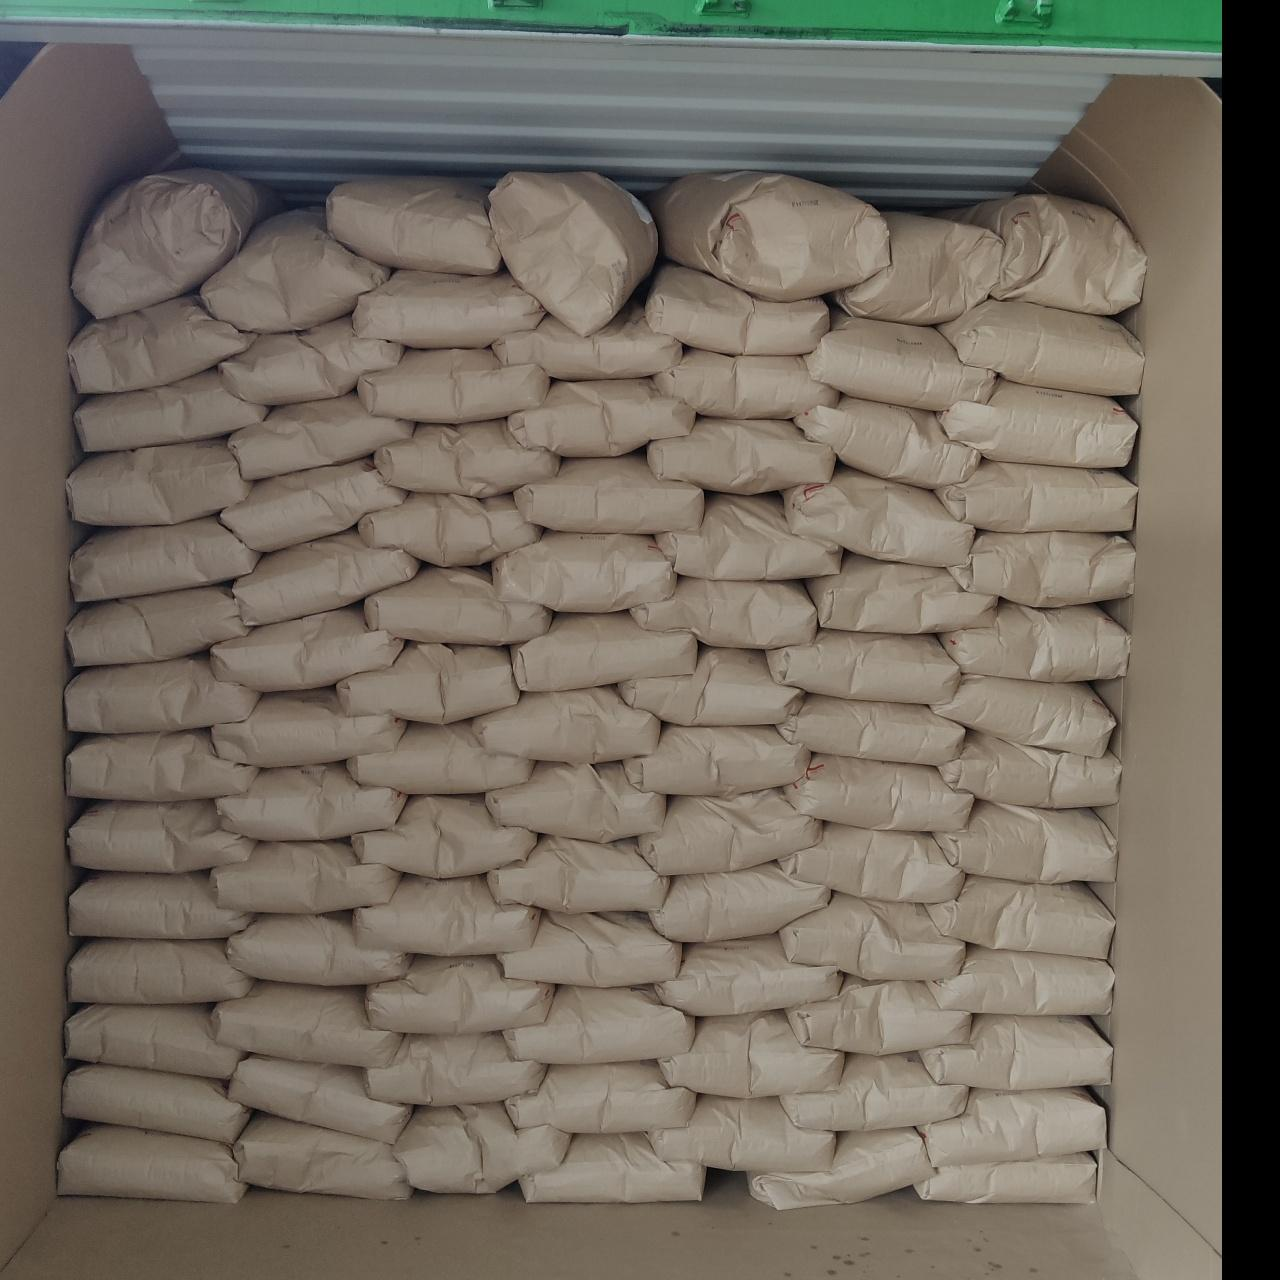sack: (652, 171, 888, 301), (72, 169, 271, 317), (489, 173, 657, 336), (201, 209, 390, 332), (963, 194, 1146, 315), (782, 465, 973, 567), (939, 300, 1142, 395), (838, 212, 1002, 325), (804, 314, 992, 411), (70, 295, 255, 393), (232, 531, 419, 625), (222, 458, 408, 551), (939, 380, 1137, 467), (796, 396, 979, 488), (327, 177, 500, 274), (645, 264, 828, 355), (209, 981, 401, 1067), (66, 437, 251, 526), (779, 891, 963, 980), (211, 607, 403, 692), (219, 316, 403, 404), (71, 516, 259, 602), (658, 1011, 843, 1098), (75, 369, 268, 452), (228, 393, 414, 479), (394, 1103, 571, 1193), (657, 495, 842, 580), (228, 1056, 410, 1142), (925, 876, 1114, 958), (639, 790, 821, 875), (941, 601, 1128, 683), (656, 934, 842, 1016), (807, 554, 996, 634), (935, 800, 1115, 884), (352, 796, 536, 878), (353, 875, 539, 956), (66, 655, 259, 733), (211, 690, 406, 767), (353, 270, 545, 348), (233, 1115, 411, 1199), (503, 986, 694, 1064), (749, 1128, 932, 1209), (514, 454, 703, 532), (930, 676, 1114, 756), (920, 1089, 1106, 1168), (919, 1014, 1112, 1090), (365, 956, 553, 1034), (492, 303, 682, 380), (492, 533, 677, 612), (62, 1065, 249, 1143), (508, 379, 695, 457), (647, 417, 834, 495), (779, 823, 963, 902), (337, 643, 518, 723), (936, 460, 1137, 532), (365, 567, 550, 645), (512, 613, 697, 691), (59, 1126, 246, 1203), (216, 763, 403, 840), (472, 686, 659, 763), (376, 419, 558, 498), (646, 1096, 835, 1172), (620, 647, 804, 725), (68, 586, 247, 666), (784, 754, 972, 830), (486, 762, 664, 842), (648, 864, 830, 942), (767, 630, 960, 703), (359, 349, 549, 423), (488, 835, 668, 913), (781, 1055, 968, 1130), (787, 976, 969, 1053), (499, 911, 681, 987), (950, 532, 1134, 607), (67, 800, 255, 873), (938, 733, 1120, 808), (505, 1061, 694, 1133), (67, 730, 257, 801), (623, 724, 810, 796), (347, 722, 533, 794), (630, 577, 816, 649), (226, 912, 409, 985), (66, 1004, 244, 1079), (211, 842, 399, 913), (358, 493, 540, 566), (365, 1032, 545, 1105), (778, 695, 963, 765), (926, 946, 1113, 1015), (519, 1133, 705, 1202), (653, 349, 838, 418), (70, 873, 249, 938), (68, 940, 252, 1002), (915, 1154, 1097, 1203)
